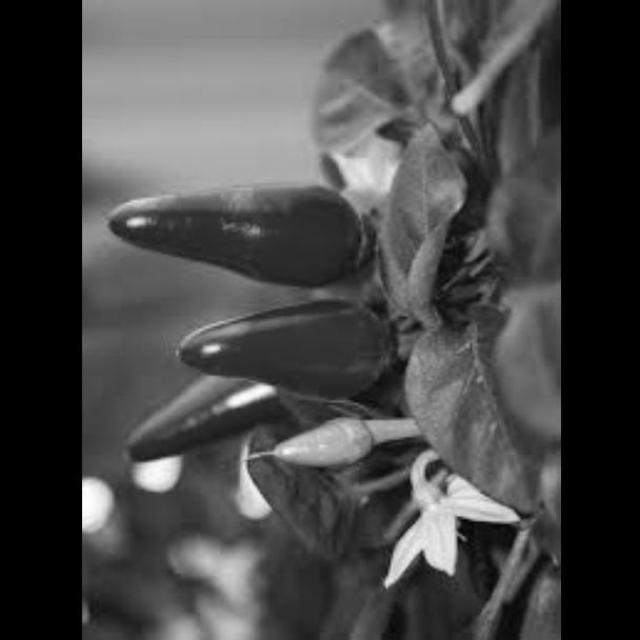hot pepper: (91, 181, 376, 291), (163, 299, 399, 402), (118, 372, 293, 468), (268, 402, 376, 489)
